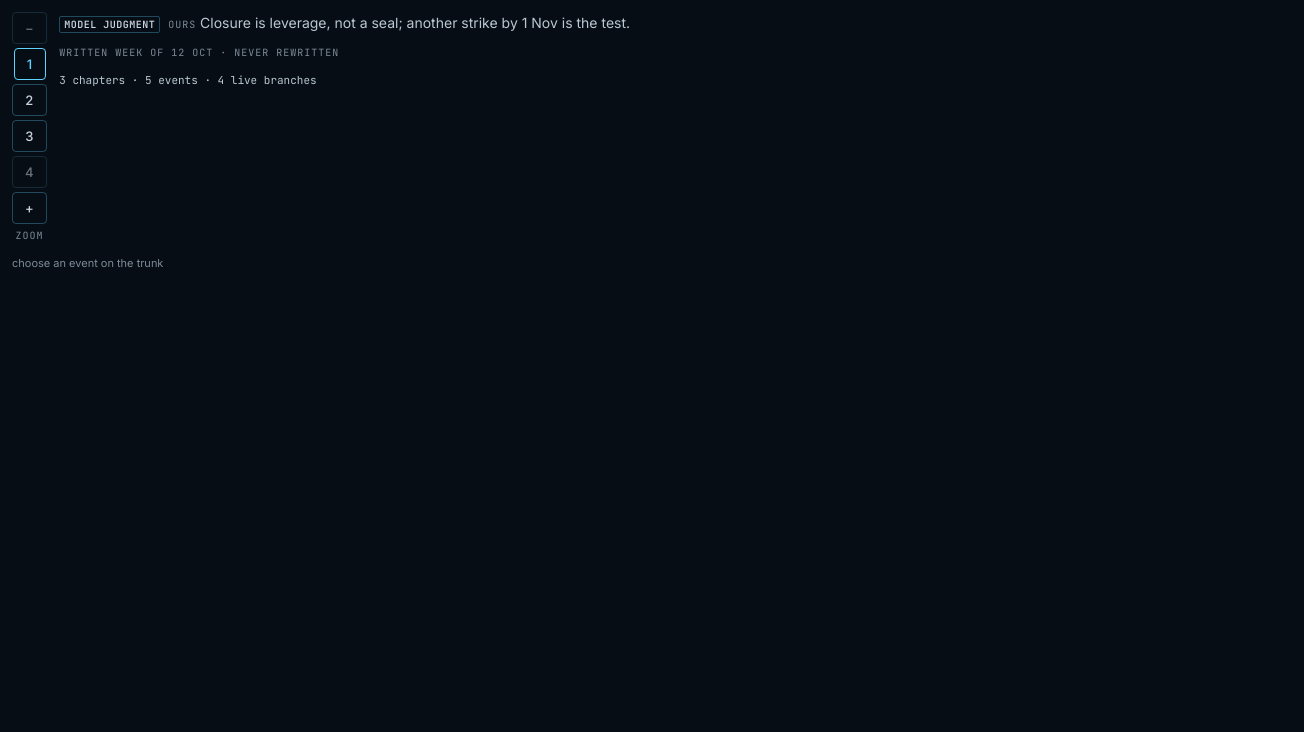
Test: story tree zoom ladder › rung 3 draws the tree: present line, one line per open branch weighted by its percentage, late flag, key
This screenshot has width=1304, height=732.
Click the button "3" at (30, 136), box [12,120,47,152]
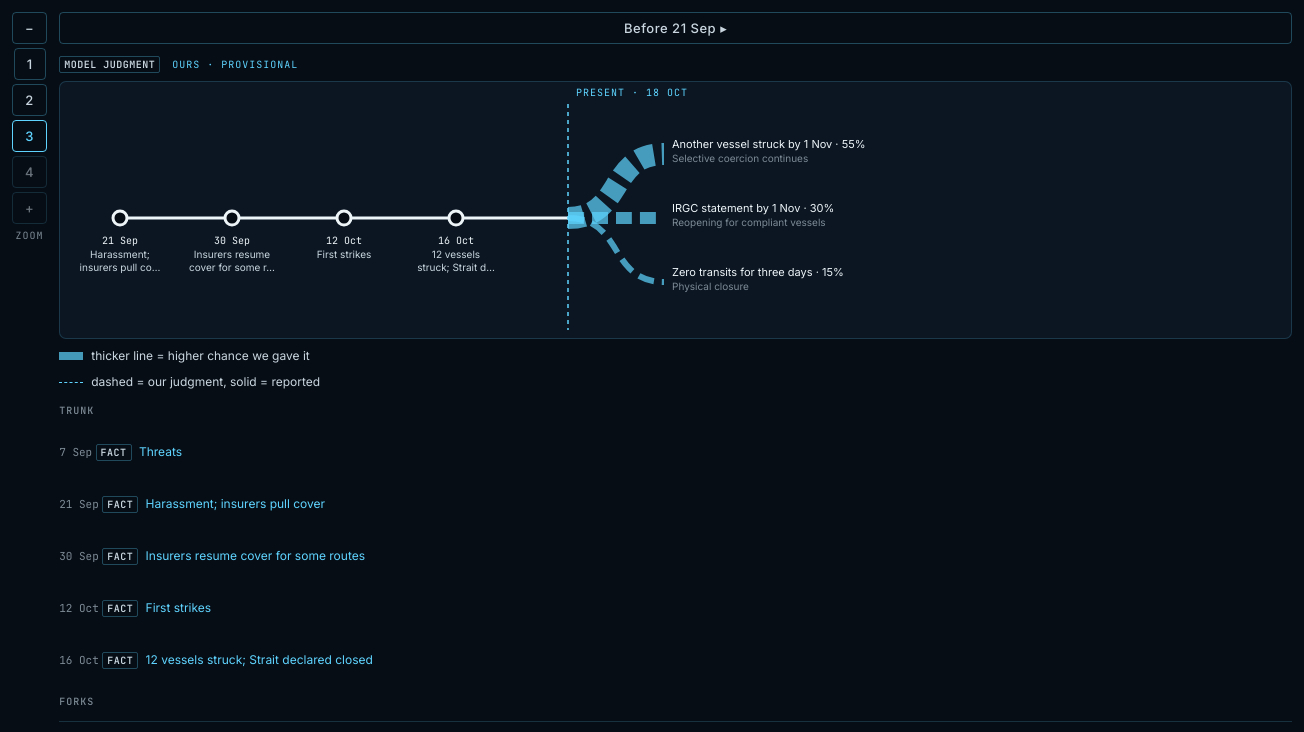
Expected: the icon with class "story-tree__svg" shows "PRESENT · 18 OCT", [576,86,688,99]
Expected: the text "MODEL JUDGMENT OURS · PROVISIONAL" is shown, [59,56,298,73]
Expected: the list named "Key" is shown, [59,348,320,389]
